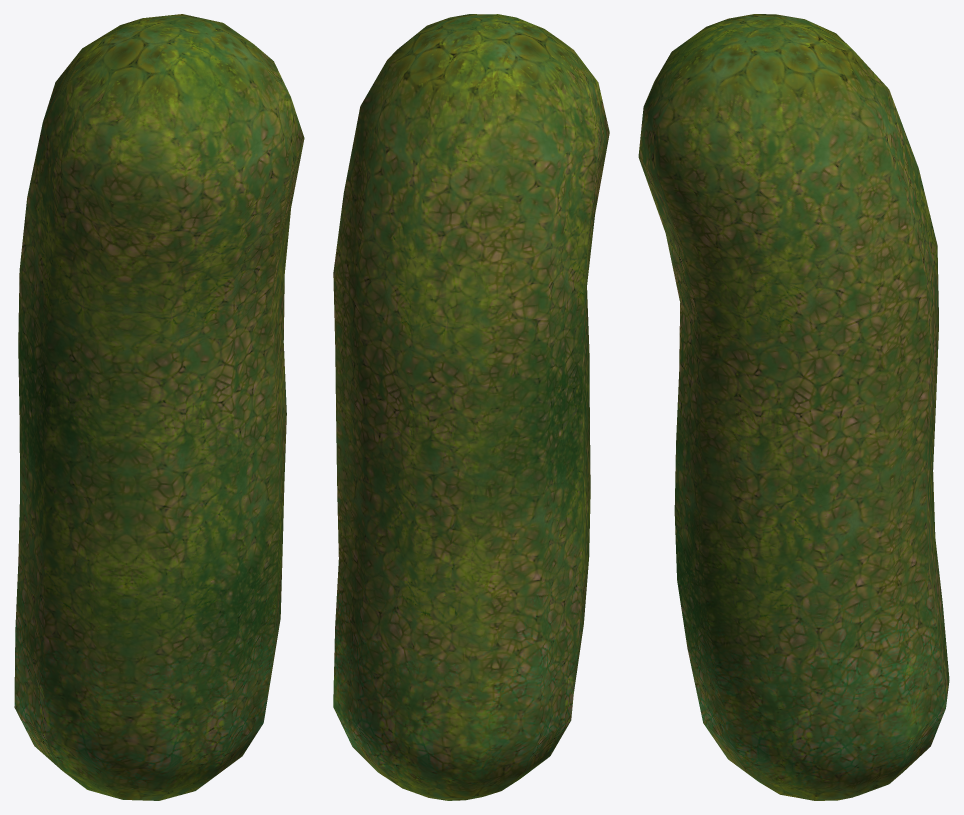
Rendered from Microbe05.FBX.
3 views of the same model, side by side, from view 1: azimuth 30°, elevation 25°; view 2: azimuth 150°, elevation 25°; view 3: azimuth 270°, elevation 25° (orthographic). The views are drawn at different scales.
Visible parts, largest first — view 1: Microbe05; view 2: Microbe05; view 3: Microbe05.
Part boxes in pixels (<box>): Microbe05: <box>14,14,304,800</box>; Microbe05: <box>333,14,609,800</box>; Microbe05: <box>638,14,949,800</box>.
Size of the model in its own units: 1.65 by 5.33 by 1.96.
